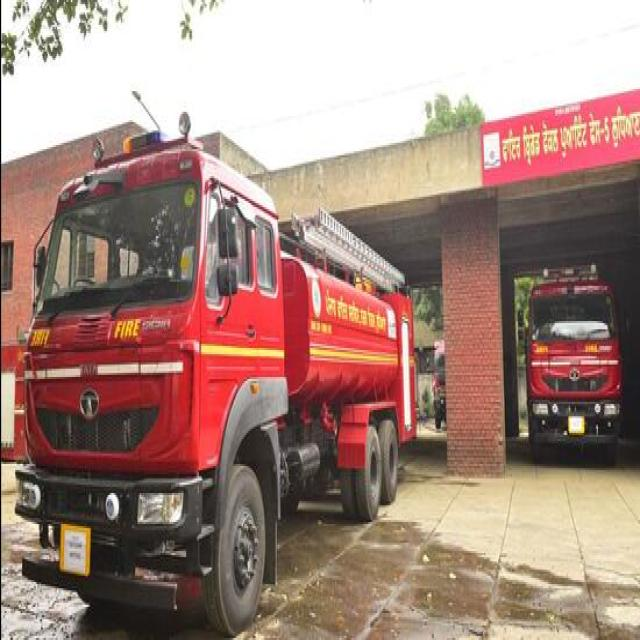Firetruck: (10, 118, 417, 636), (520, 275, 630, 470)
